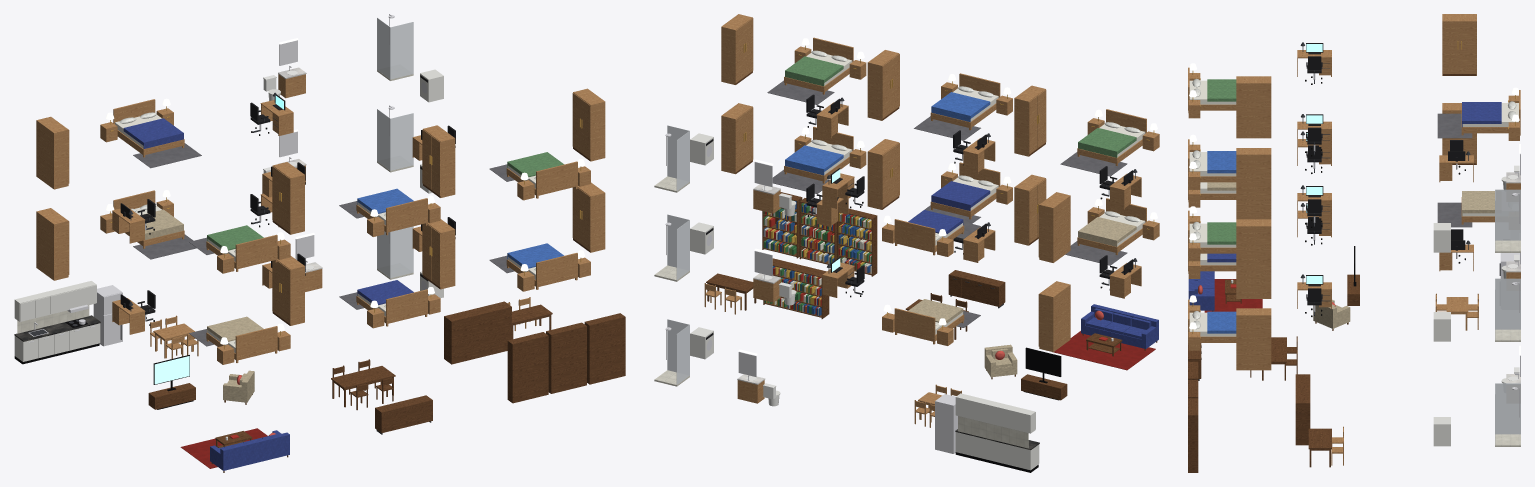
Rendered from i_loire_chateau.gltf.
3 views of the same model, side by side, from view 1: azimuth 30°, elevation 25°; view 2: azimuth 150°, elevation 25°; view 3: azimuth 270°, elevation 25° (orthographic). The views are drawn at different scales.
Parts seen in each view (by area): view 1: I_loire_chateau; view 2: I_loire_chateau; view 3: I_loire_chateau.
Part boxes in pixels (x1=…): I_loire_chateau: x1=14, y1=14, x2=625, y2=472; I_loire_chateau: x1=654, y1=14, x2=1159, y2=472; I_loire_chateau: x1=1188, y1=14, x2=1520, y2=472.
Bounding box in the file's own units: 17.38 × 9.5 × 11.52.
31 materials, 14 textured.
